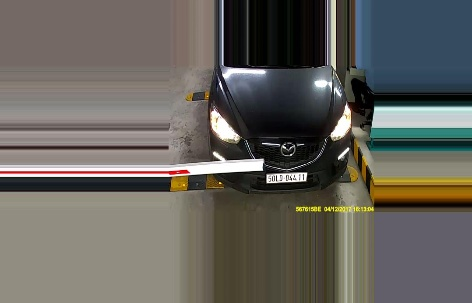plate: (263, 170, 307, 186)
